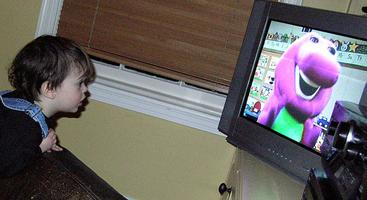person: (2, 34, 94, 162)
